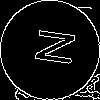N: (25, 25, 76, 68)
